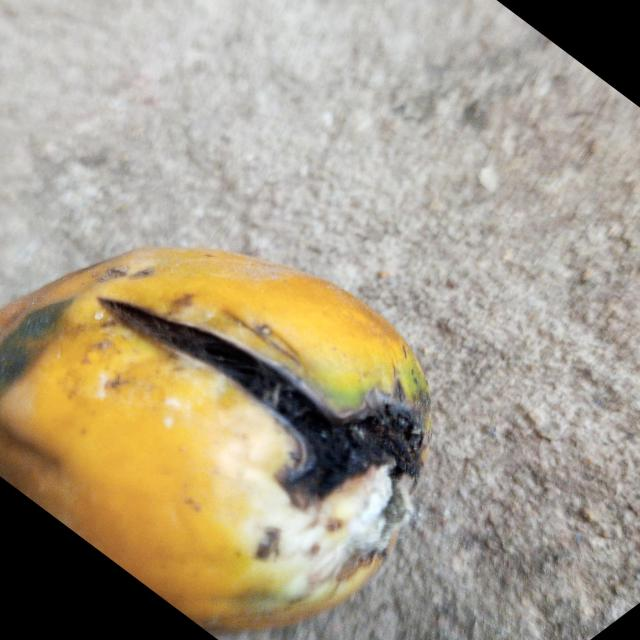damaged: (0, 248, 430, 630)
